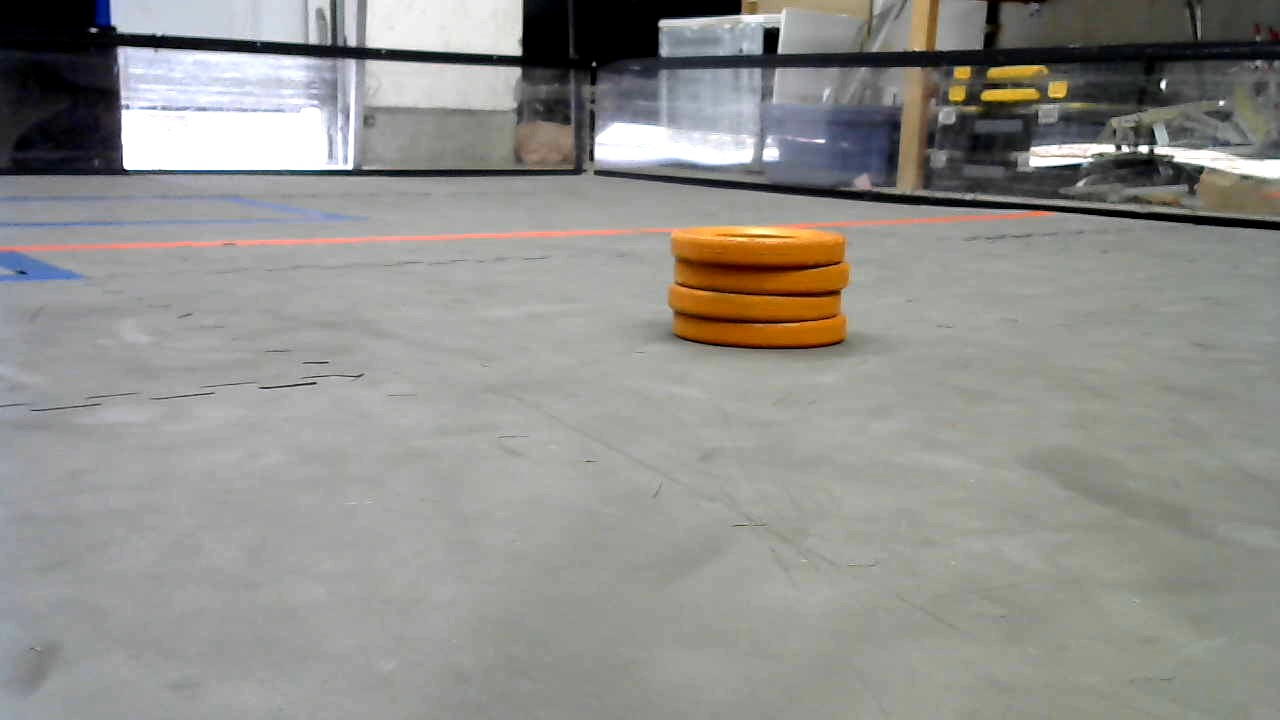FourStack: (668, 228, 850, 347)
